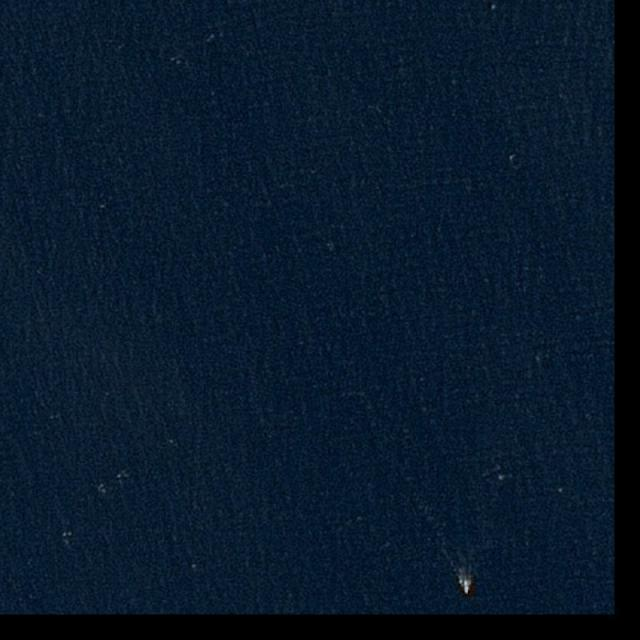ship: (463, 580, 469, 594)
